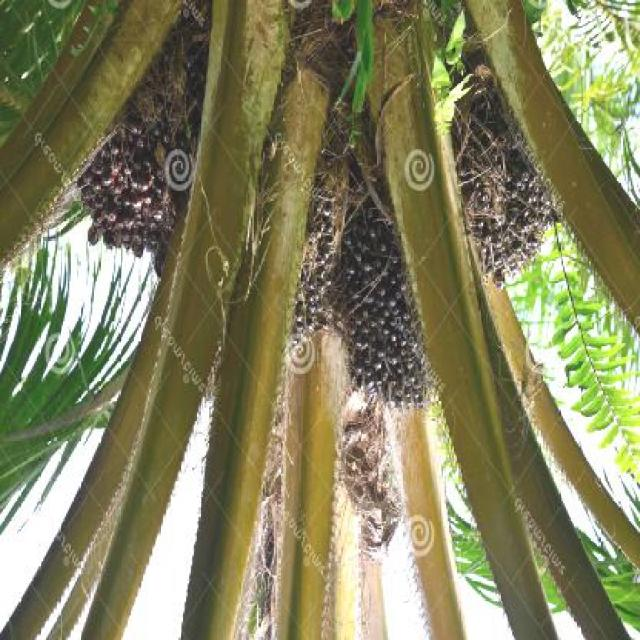palm-oil: (442, 33, 570, 280), (103, 17, 215, 246), (326, 202, 448, 410)
